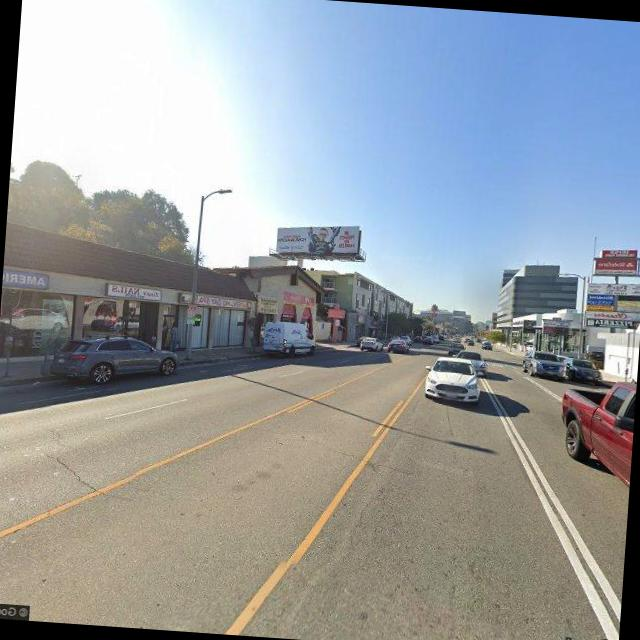crack: (36, 449, 108, 494)
